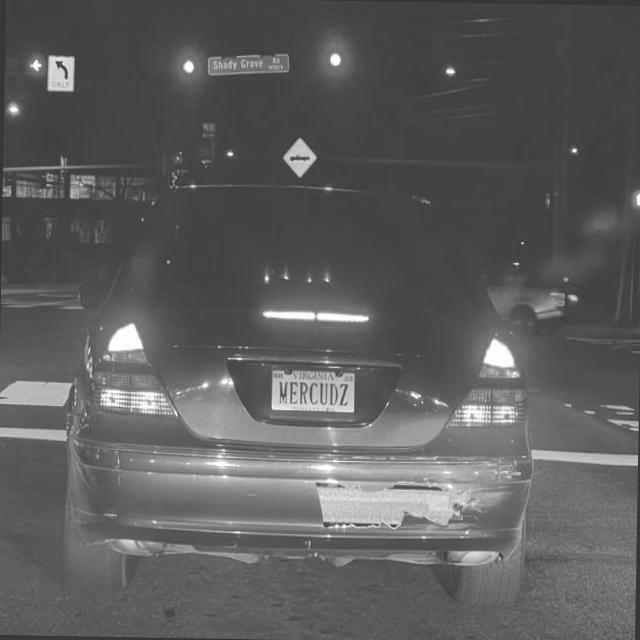LicensePlate: (267, 365, 357, 422)
